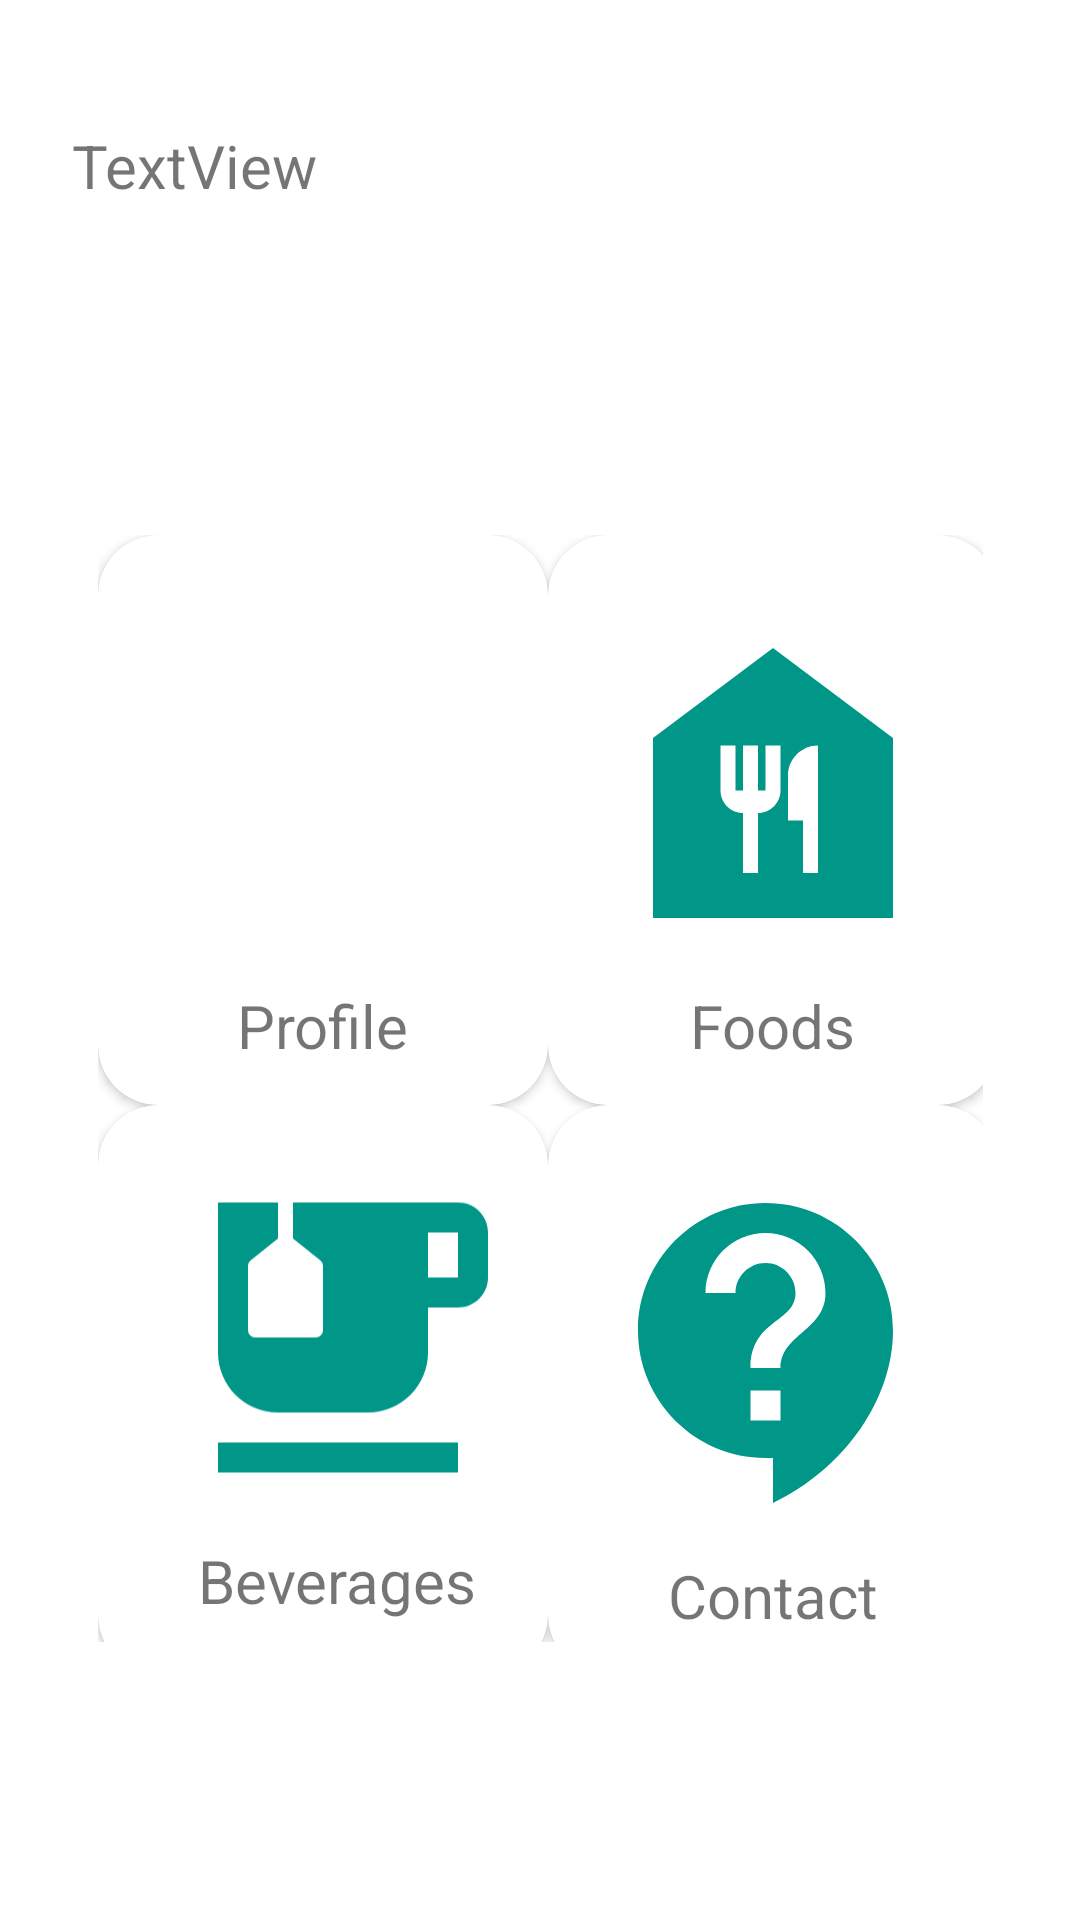

Screen size 1080px x 1920px. Icon name, then its box in pixels as (x1, y1, x2, y2):
emoji food beverage: (218, 1202, 488, 1473)
food bank: (653, 648, 893, 918)
